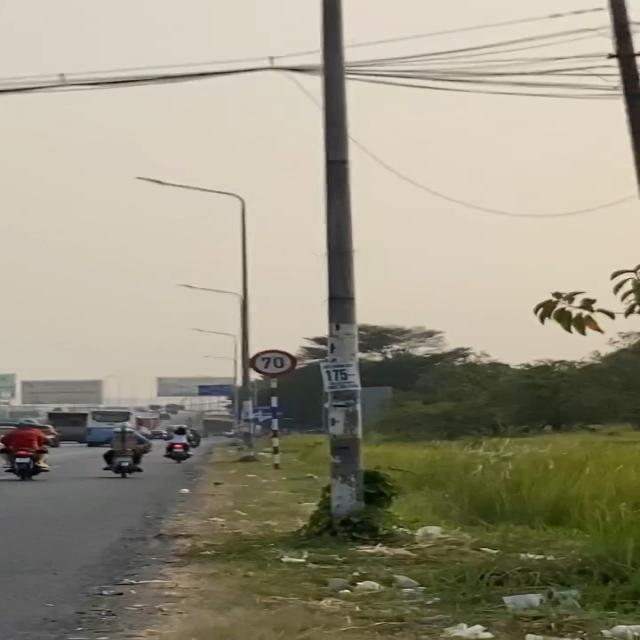127-toc-do-toi-da-70: (250, 348, 298, 376)
